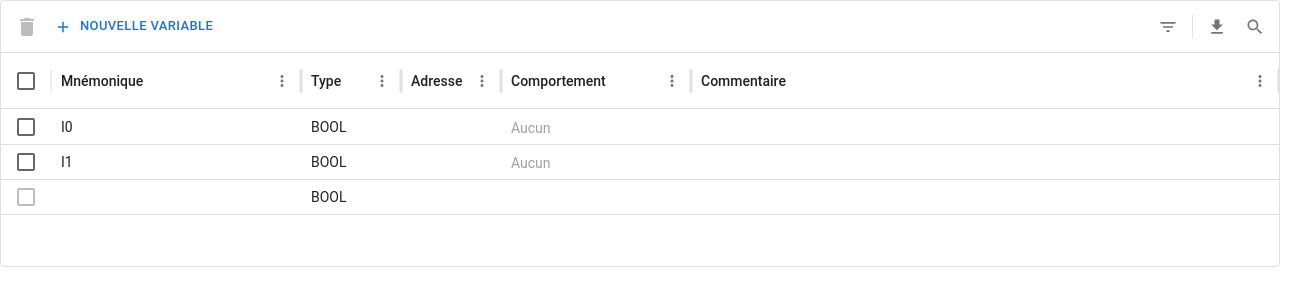
VariablesTable › filtre les lignes affichées via la recherche rapide
The width and height of the screenshot is (1292, 284).
Click the button named "Rechercher" at (1255, 26), box [1237,8,1273,44]
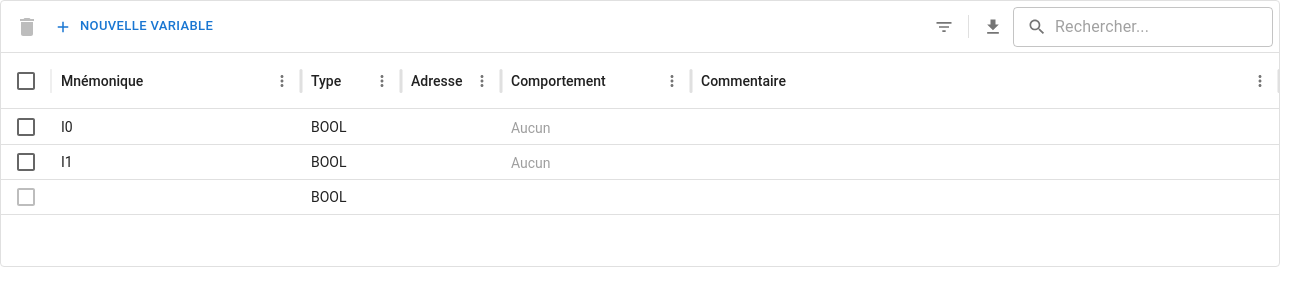
Type "I0" into the search field with placeholder "Rechercher..." at (1164, 26), box [1055,6,1273,46]
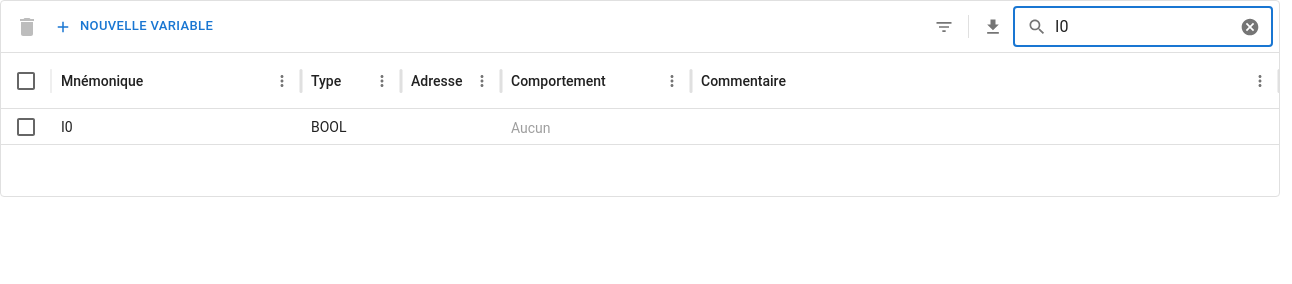
Check: the text "I0" is shown, box [61,119,73,135]
Check: the text "I1" is gone
